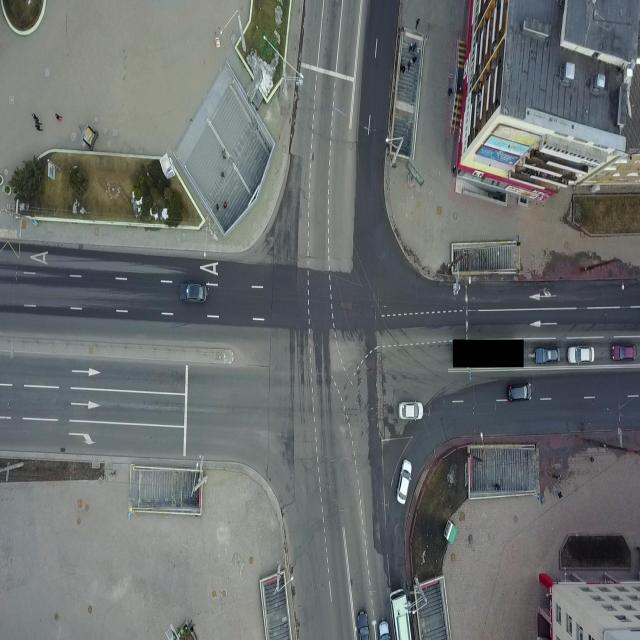car: (178, 279, 208, 304), (566, 342, 595, 367), (396, 460, 412, 505), (610, 340, 637, 363), (397, 399, 424, 422), (533, 345, 561, 364), (506, 380, 532, 400), (355, 608, 371, 639), (377, 618, 392, 639)
